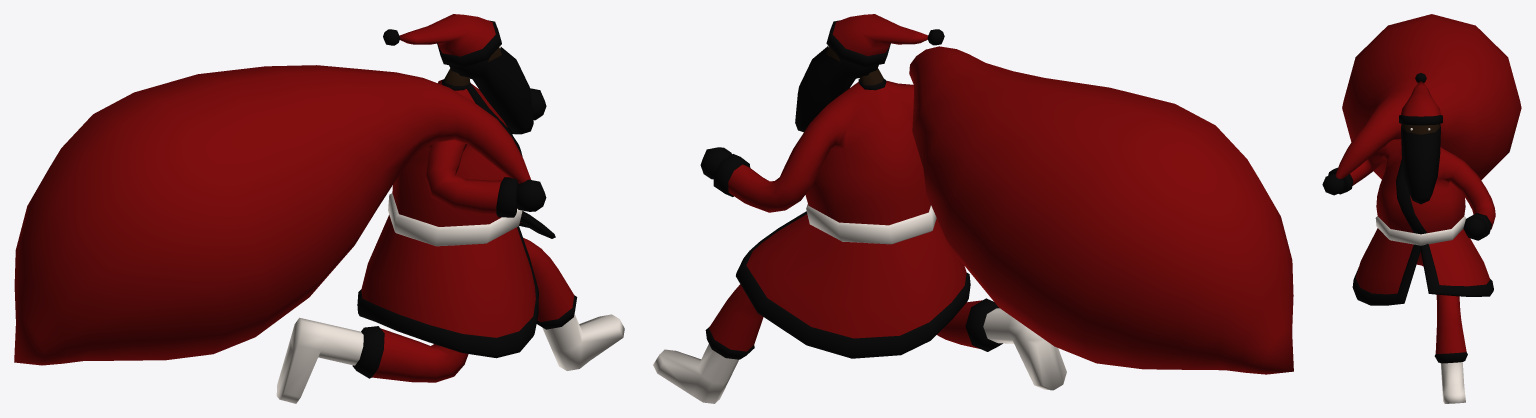
File: Santa 01.dae
The picture shows the model from 3 angles, left to right: view 1: azimuth 30°, elevation 25°; view 2: azimuth 150°, elevation 25°; view 3: azimuth 270°, elevation 25°; orthographic projection. The views are drawn at different scales.
Parts seen in each view (by area): view 1: Santa 01; view 2: Santa 01; view 3: Santa 01.
Part boxes in pixels (<box>): Santa 01: <box>14,14,624,403</box>; Santa 01: <box>653,14,1293,403</box>; Santa 01: <box>1322,14,1521,403</box>.
Bounding box in the file's own units: 251 × 155 × 105.
